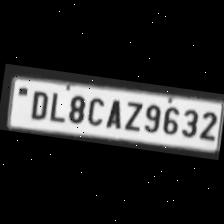2: (196, 106, 220, 142)
3: (177, 105, 200, 138)
6: (158, 102, 181, 136)
8: (62, 91, 88, 125)
9: (140, 100, 163, 133)
A: (102, 96, 124, 130)
C: (84, 93, 106, 126)
D: (26, 86, 51, 120)
L: (46, 89, 67, 123)
Z: (120, 98, 144, 132)
